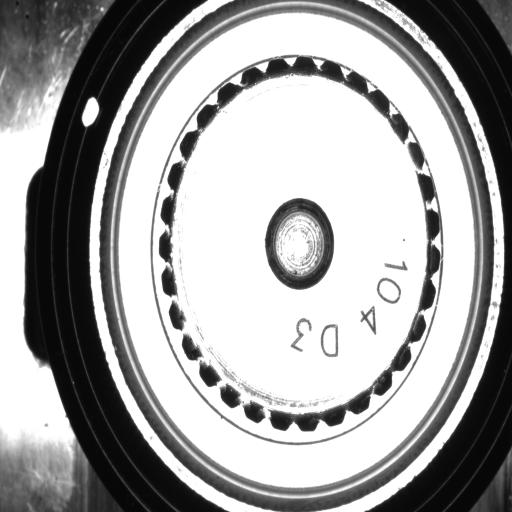gear: (159, 54, 441, 428)
